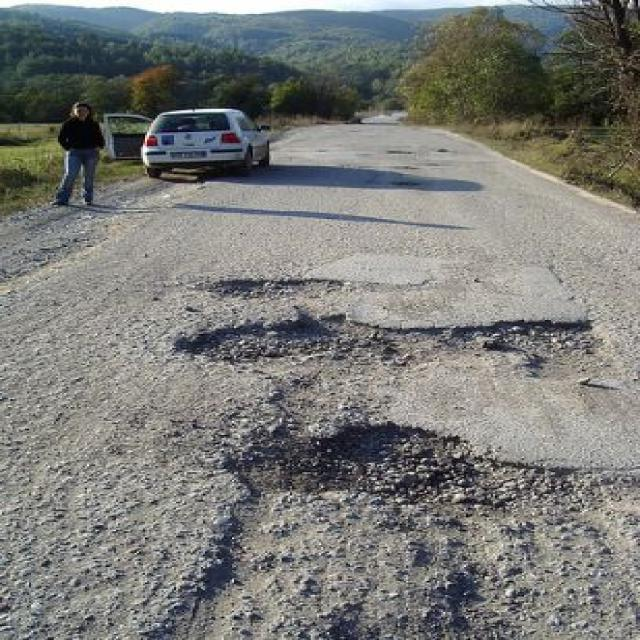Pothole: (207, 404, 605, 529), (181, 308, 601, 384)
